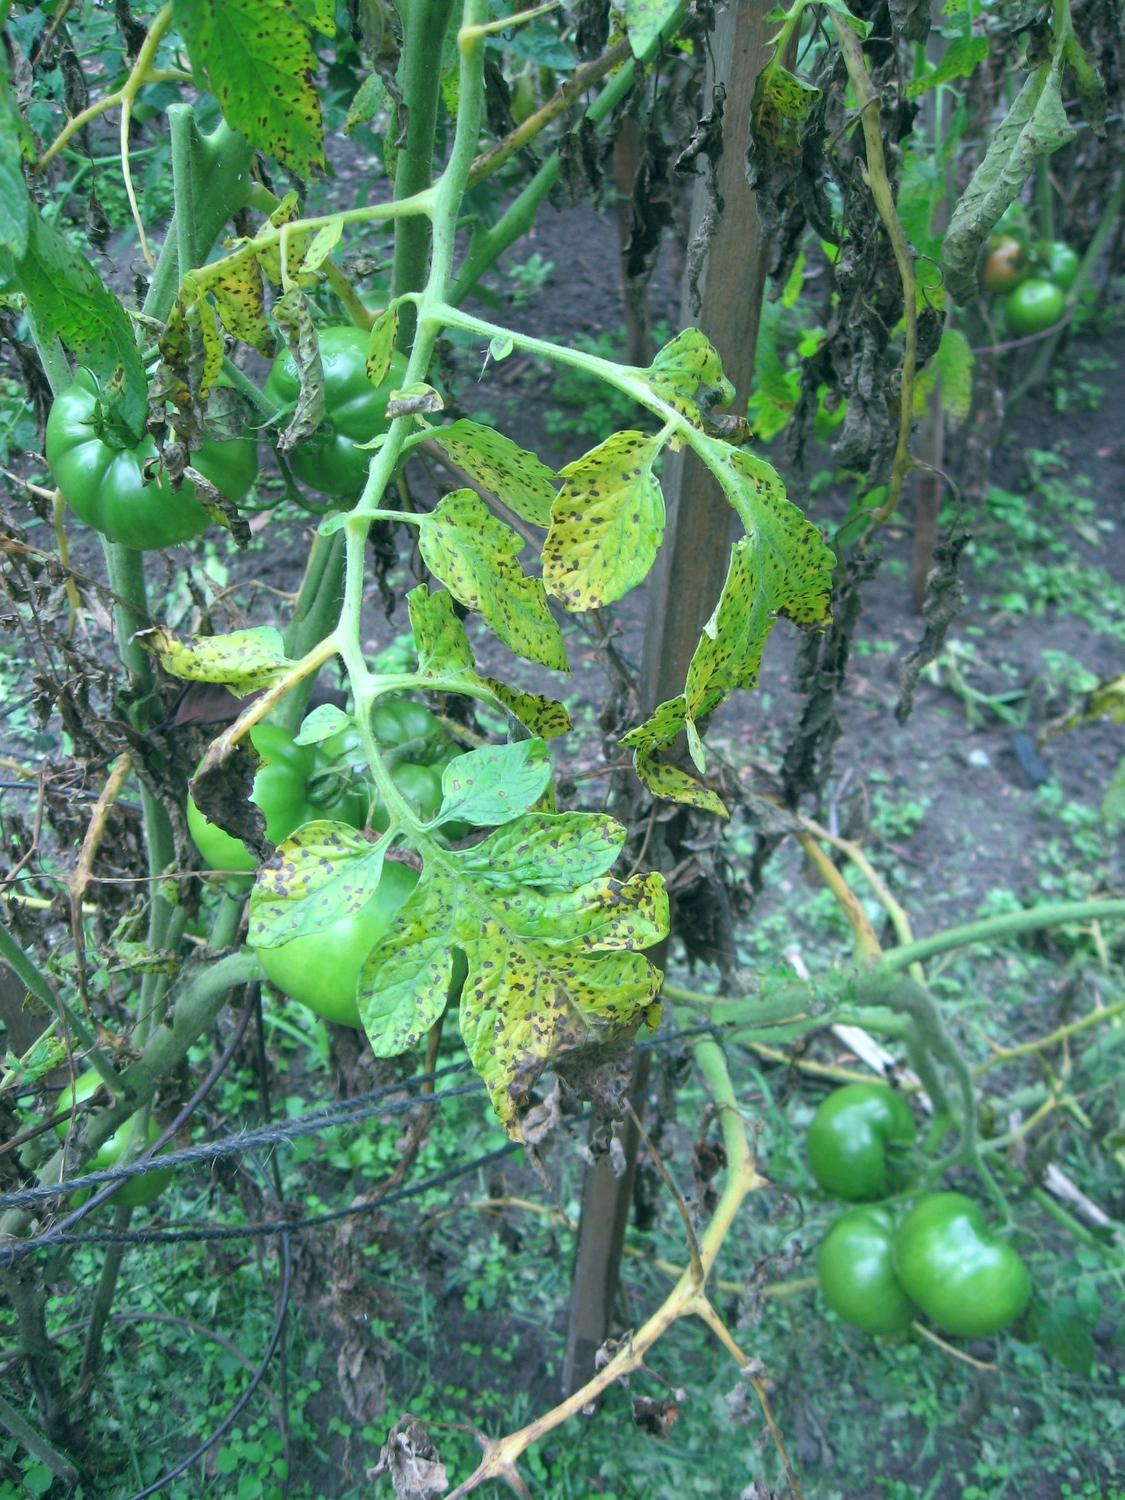Tomato Septoria leaf spot: (373, 788, 687, 1131), (617, 402, 873, 774), (401, 481, 575, 694), (537, 420, 690, 615), (227, 823, 386, 956), (126, 611, 310, 691)
